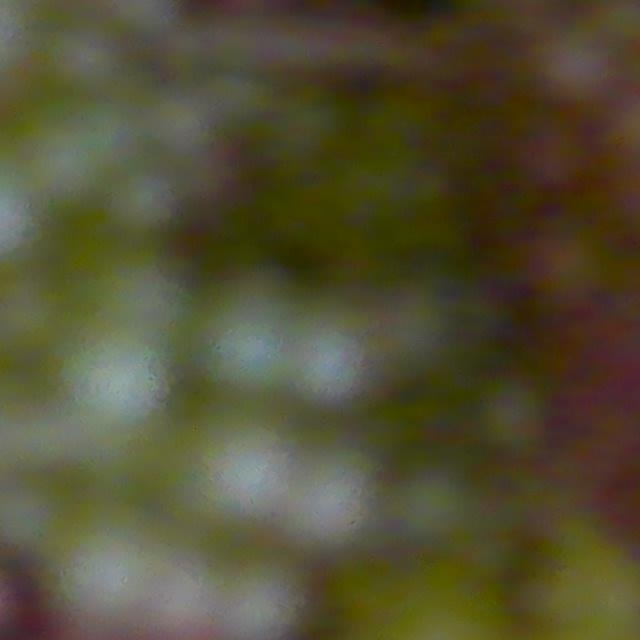SeaGrape: (285, 448, 381, 552), (68, 327, 166, 428), (199, 298, 294, 396), (202, 427, 291, 520), (215, 556, 311, 640), (534, 28, 615, 108), (292, 325, 370, 407), (477, 377, 552, 455), (0, 480, 61, 556), (110, 170, 177, 235)
